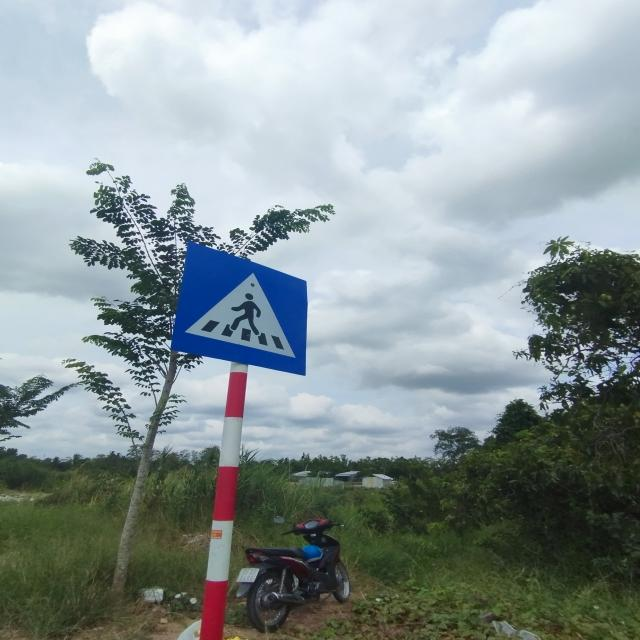Giao_Nhau_Duong_Uu_Tien: (171, 240, 308, 374)
